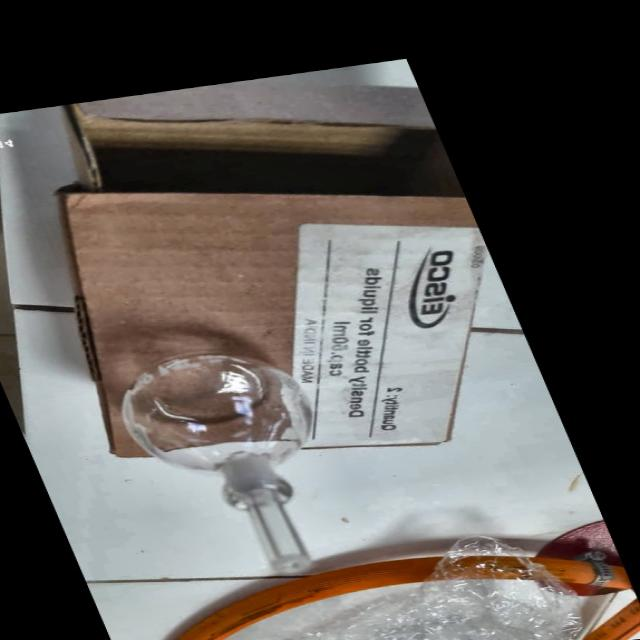Density Bottle for Liquids: (83, 329, 396, 589)
